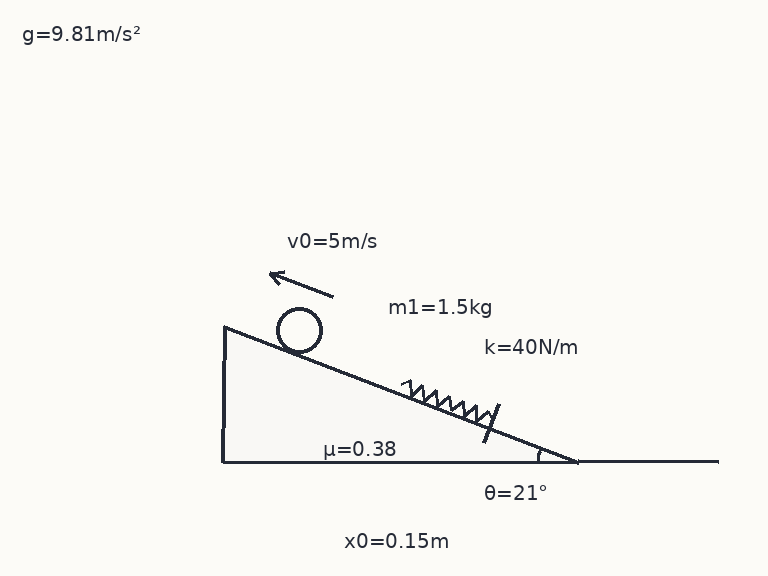ball: (274, 305, 324, 355)
ramp: (221, 324, 580, 464)
spring: (398, 378, 495, 423)
